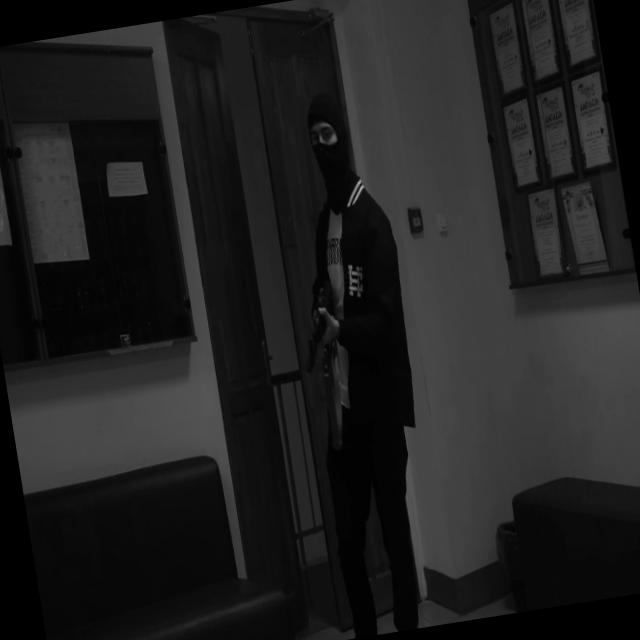gun: (291, 274, 347, 374)
person with a gun: (263, 86, 456, 640)
